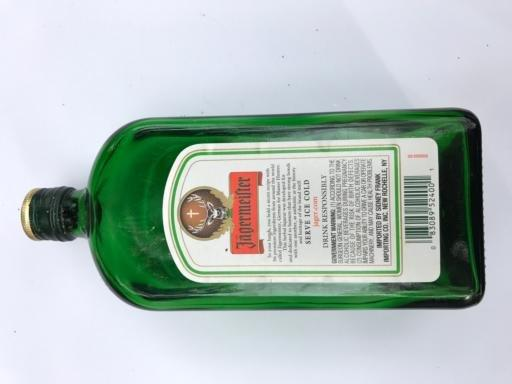botolkaca: (20, 106, 487, 309)
